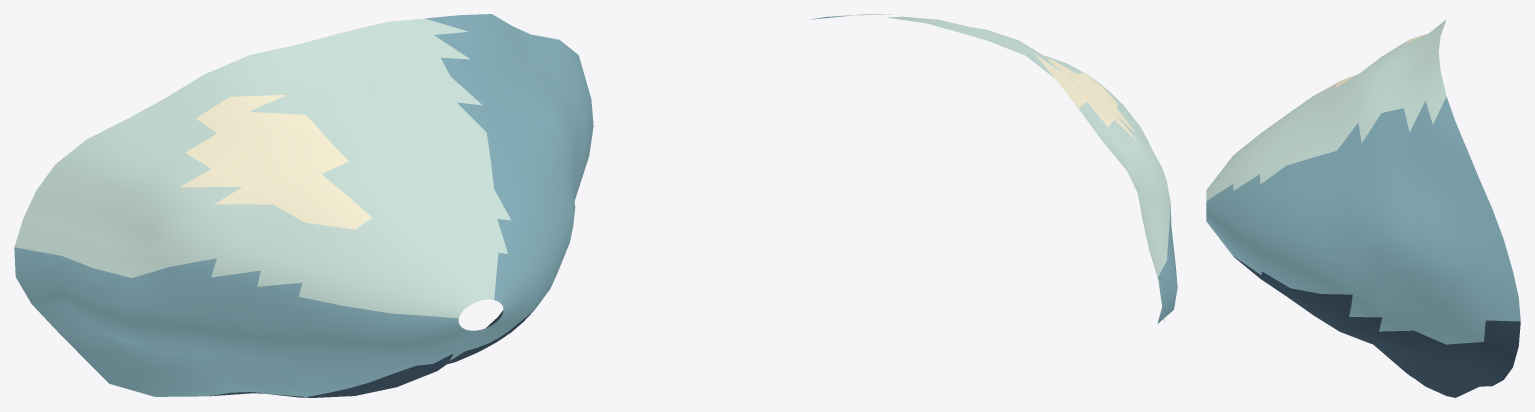
Rendered from pressure_cone.glb.
The picture shows the model from 3 angles, left to right: view 1: azimuth 30°, elevation 25°; view 2: azimuth 150°, elevation 25°; view 3: azimuth 270°, elevation 25°; orthographic projection. The views are drawn at different scales.
Parts seen in each view (by area): view 1: pressure_cone; view 2: pressure_cone; view 3: pressure_cone.
Part boxes in pixels (<box>): pressure_cone: <box>14,14,593,397</box>; pressure_cone: <box>811,14,1177,323</box>; pressure_cone: <box>1206,20,1520,397</box>.
Size of the model in its own units: 2 by 1.25 by 1.15.
